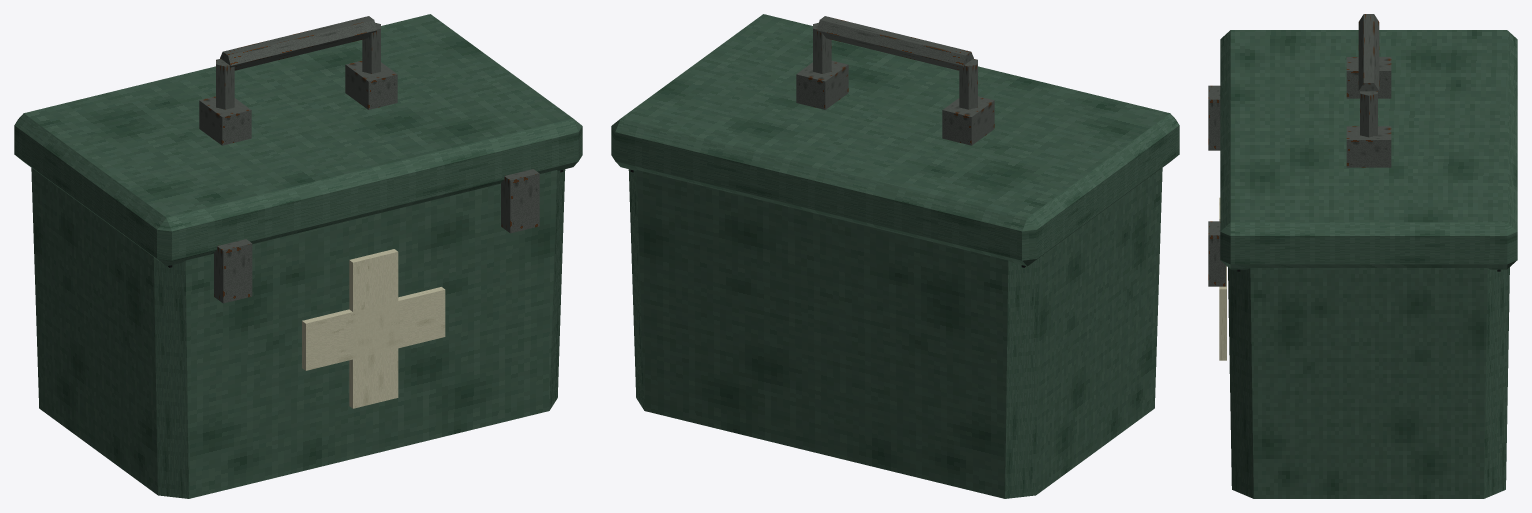
The model's file is first_aid_box.glb.
The picture shows the model from 3 angles, left to right: view 1: azimuth 30°, elevation 25°; view 2: azimuth 150°, elevation 25°; view 3: azimuth 270°, elevation 25°; orthographic projection. The views are drawn at different scales.
Parts seen in each view (by area): view 1: First_Aid_Box_Mesh.002, First_Aid_Lid_Hinge_Mesh.002; view 2: First_Aid_Box_Mesh.002, First_Aid_Lid_Hinge_Mesh.002; view 3: First_Aid_Lid_Hinge_Mesh.002, First_Aid_Box_Mesh.002.
Boxes of the visible parts, box(x1,y1,x2,y2) form: First_Aid_Box_Mesh.002: box(31, 167, 565, 498); First_Aid_Lid_Hinge_Mesh.002: box(14, 14, 582, 267); First_Aid_Box_Mesh.002: box(628, 167, 1162, 498); First_Aid_Lid_Hinge_Mesh.002: box(611, 14, 1179, 267); First_Aid_Lid_Hinge_Mesh.002: box(1220, 14, 1517, 271); First_Aid_Box_Mesh.002: box(1208, 85, 1509, 498).
Size of the model in its own units: 0.32 by 0.2641 by 0.208.
1 material, 1 textured.
